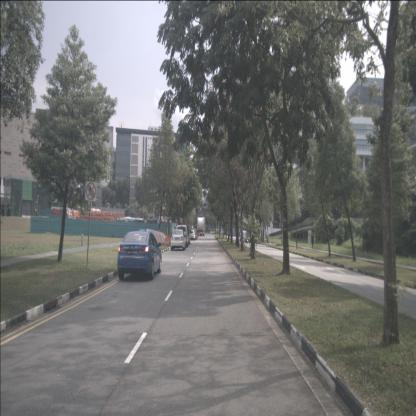human-pedestrian-adult: (310, 232, 315, 250)
vehicle-car: (118, 230, 162, 281), (170, 229, 186, 251), (176, 224, 189, 247), (180, 224, 191, 245), (187, 229, 196, 240)
vehicle-truck: (197, 216, 205, 236)
